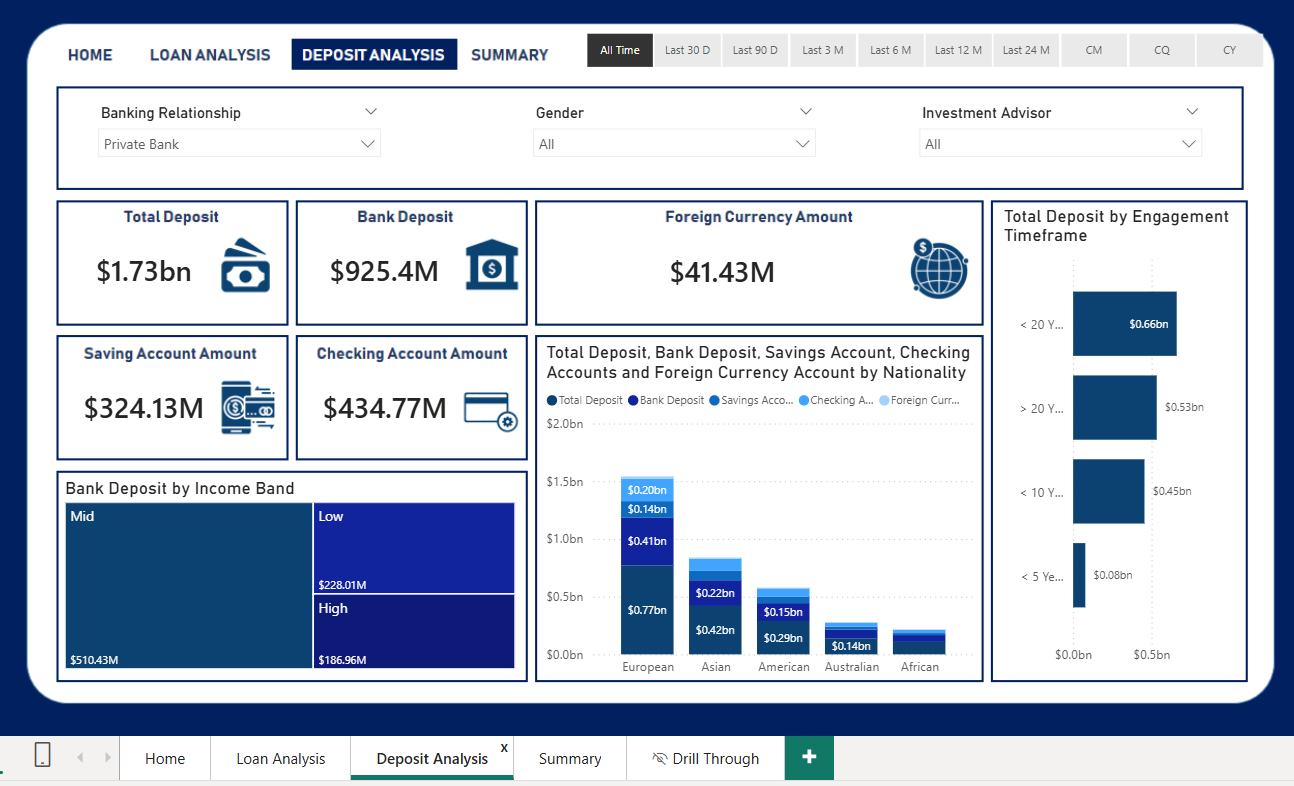

What the dashboard file says about the page in this screenshot:
{"tool":"powerbi","page":{"name":"Deposit Analysis","canvas":[1280,720],"ordinal":3},"visuals":[{"type":"slicer","fields":{"Values":["banking_case customer.Year of Joining"]},"box":[733.3,32.2,504.1,34.9],"z":0},{"type":"actionButton","box":[36.4,31.7,99.7,39.6],"z":1000},{"type":"actionButton","box":[348.2,31.7,221.6,39.6],"z":2000},{"type":"actionButton","box":[587.1,31.7,123.4,39.6],"z":3000},{"type":"card","fields":{"Values":["banking_case customer.Total Deposit"]},"box":[100.9,243.7,179.5,65.5],"z":4000},{"type":"card","fields":{"Values":["Sum(banking_case customer.Bank Deposits)"]},"box":[369.5,243.7,179.5,65.5],"z":5000},{"type":"card","fields":{"Values":["Sum(banking_case customer.Saving Accounts)"]},"box":[100.9,360.4,179.5,65.5],"z":6000},{"type":"card","fields":{"Values":["Sum(banking_case customer.Checking Accounts)"]},"box":[370.8,360.4,179.5,65.5],"z":7000},{"type":"donutChart","fields":{"Category":["banking_case customer.Income Band"],"Y":["Sum(banking_case customer.Bank Deposits)"]},"box":[66.8,488.8,530.7,176.9],"z":8000},{"type":"clusteredColumnChart","fields":{"Category":["banking_case customer.BRId"],"Y":["Sum(banking_case customer.Bank Deposits)"]},"box":[613.3,243.7,293.5,182.1],"z":9000},{"type":"clusteredColumnChart","fields":{"Category":["banking_case customer.Nationality"],"Y":["Sum(banking_case customer.Bank Deposits)"]},"box":[613.3,488.8,293.5,182.1],"z":10000},{"type":"slicer","fields":{"Values":["banking_case customer.BRId"]},"box":[66.8,123.2,428.5,57.7],"z":11000},{"type":"slicer","fields":{"Values":["banking_case customer.GenderId"]},"box":[512.4,123.2,302.7,57.7],"z":12000},{"type":"slicer","fields":{"Values":["banking_case customer.IAId"]},"box":[843.9,123.2,364.3,57.7],"z":13000},{"type":"clusteredColumnChart","fields":{"Category":["banking_case customer.BRId"],"Y":["Sum(banking_case customer.Bank Deposits)"]},"box":[933.7,245.3,292.8,425.7],"z":14000},{"type":"actionButton","box":[136.3,27.5,196.6,40.6],"z":15000}]}

Visuals, with their boxes on the page's 1280x720 design canvas (x1, y1, x2, y2). These are canvas units, not pixel positions in the 1294x786 screenshot, which may show the page scaled, cropped or inside an application window:
slicer - banking_case customer.Year of Joining: <region>733, 32, 1237, 67</region>
actionButton: <region>36, 32, 136, 71</region>
actionButton: <region>348, 32, 570, 71</region>
actionButton: <region>587, 32, 710, 71</region>
card - banking_case customer.Total Deposit: <region>101, 244, 280, 309</region>
card - Sum(banking_case customer.Bank Deposits): <region>370, 244, 549, 309</region>
card - Sum(banking_case customer.Saving Accounts): <region>101, 360, 280, 426</region>
card - Sum(banking_case customer.Checking Accounts): <region>371, 360, 550, 426</region>
donutChart - banking_case customer.Income Band x Sum(banking_case customer.Bank Deposits): <region>67, 489, 598, 666</region>
clusteredColumnChart - banking_case customer.BRId x Sum(banking_case customer.Bank Deposits): <region>613, 244, 907, 426</region>
clusteredColumnChart - banking_case customer.Nationality x Sum(banking_case customer.Bank Deposits): <region>613, 489, 907, 671</region>
slicer - banking_case customer.BRId: <region>67, 123, 495, 181</region>
slicer - banking_case customer.GenderId: <region>512, 123, 815, 181</region>
slicer - banking_case customer.IAId: <region>844, 123, 1208, 181</region>
clusteredColumnChart - banking_case customer.BRId x Sum(banking_case customer.Bank Deposits): <region>934, 245, 1226, 671</region>
actionButton: <region>136, 28, 333, 68</region>
